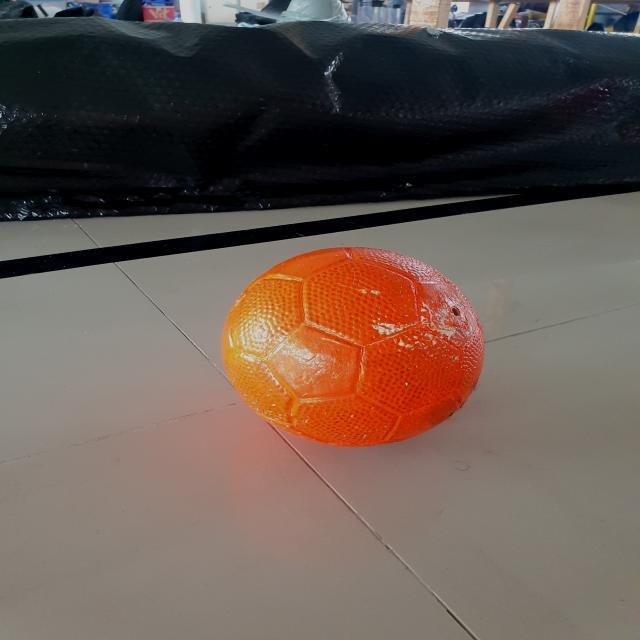bola: (217, 230, 507, 455)
